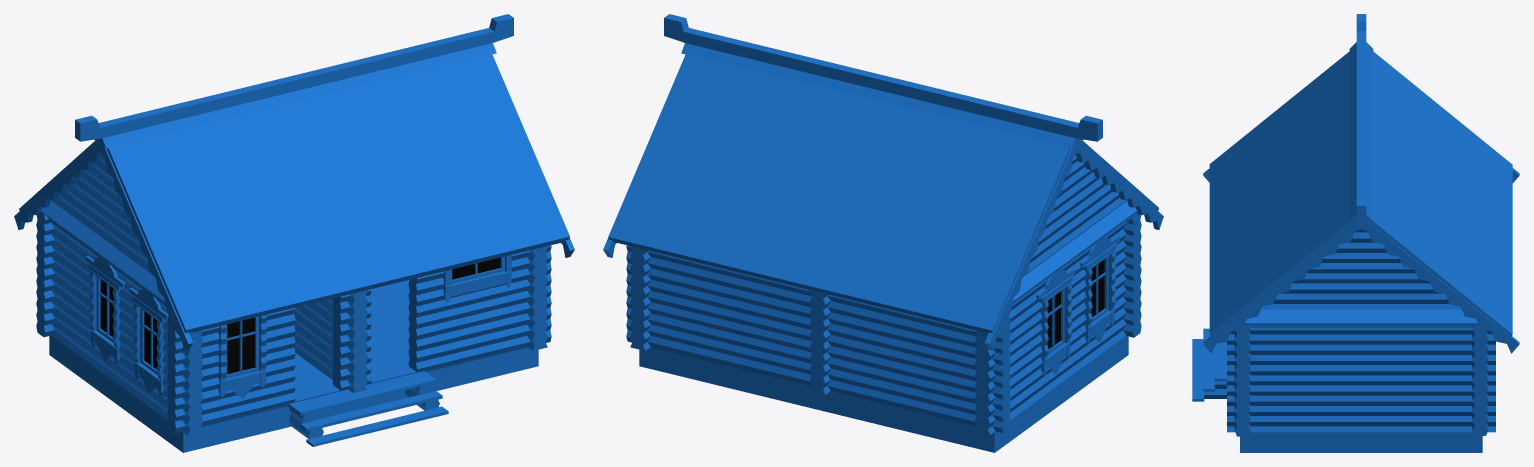
The model's file is SM_house_2.fbx.
3 renders of one model, left to right at view 1: azimuth 30°, elevation 25°; view 2: azimuth 150°, elevation 25°; view 3: azimuth 270°, elevation 25°, orthographic. The views are drawn at different scales.
Visible parts, largest first — view 1: Cloner_3; view 2: Cloner_3; view 3: Cloner_3.
Part boxes in pixels (box(x1,y1,x2,y2)): Cloner_3: box(14, 14, 574, 452); Cloner_3: box(603, 14, 1163, 452); Cloner_3: box(1192, 14, 1519, 452).
Size of the model in its own units: 856 by 550 by 617.
